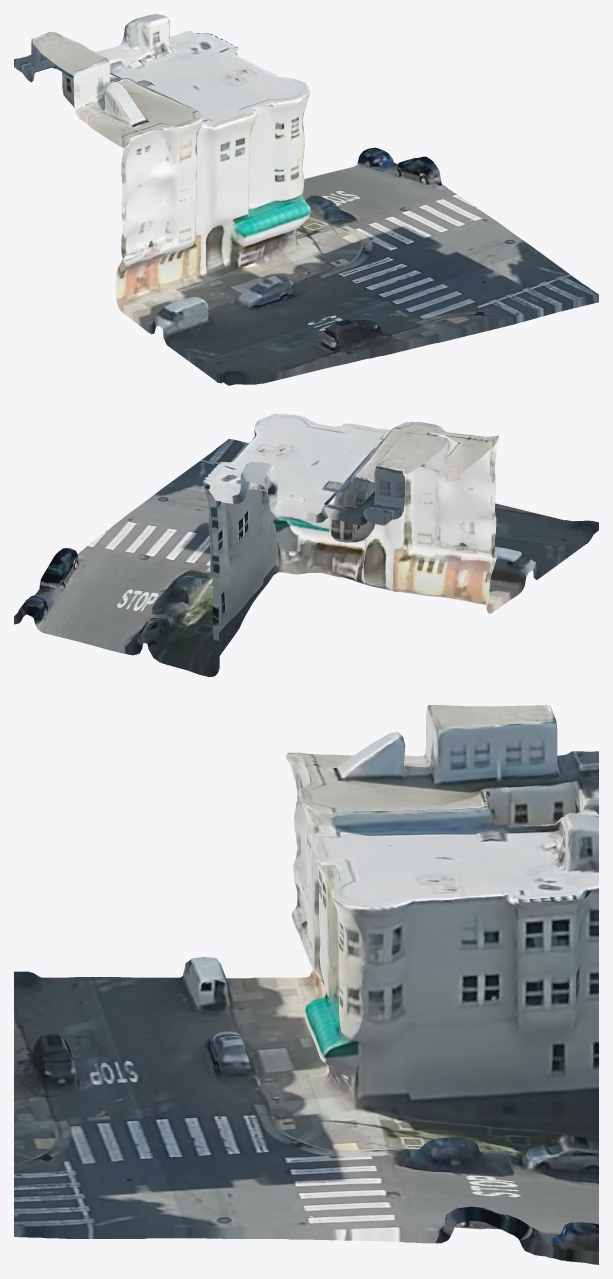
Rendered from z20-167743-405192-h0-yup-uvflip-v3-world.glb.
3 renders of one model, top to bottom at view 1: azimuth 30°, elevation 25°; view 2: azimuth 150°, elevation 25°; view 3: azimuth 270°, elevation 25°, orthographic. The views are drawn at different scales.
Size of the model in its own units: 30.16 by 18.4 by 30.32.
Materials: 1 (1 with a texture image).
